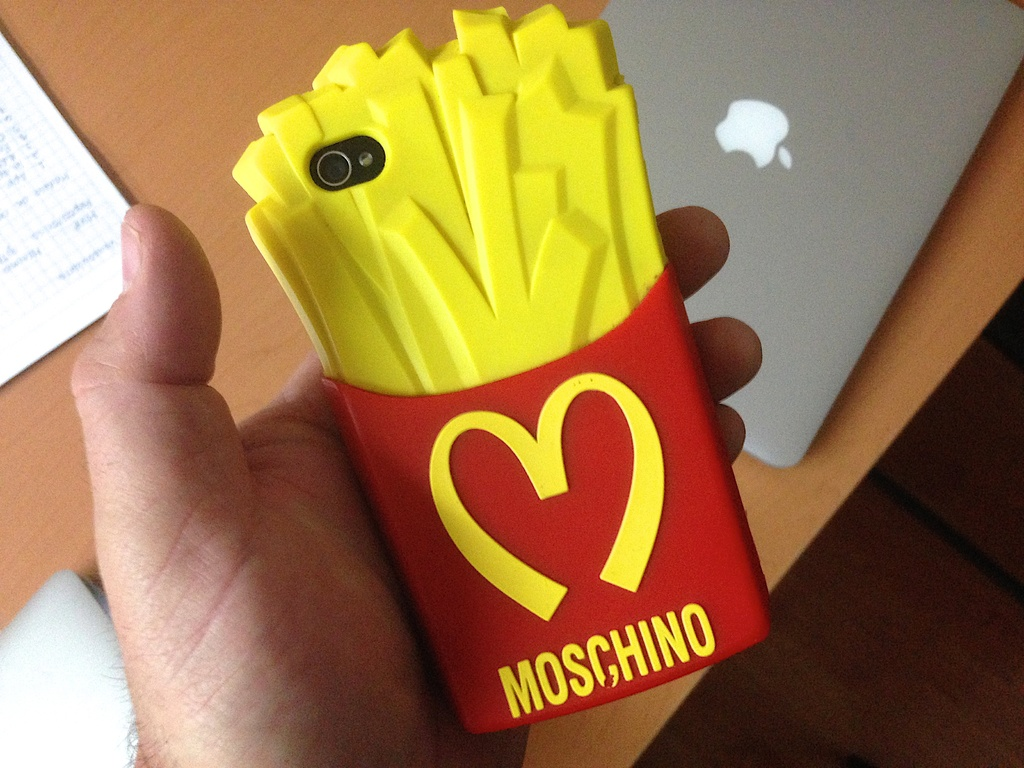Human_hand: (70, 201, 761, 767)
